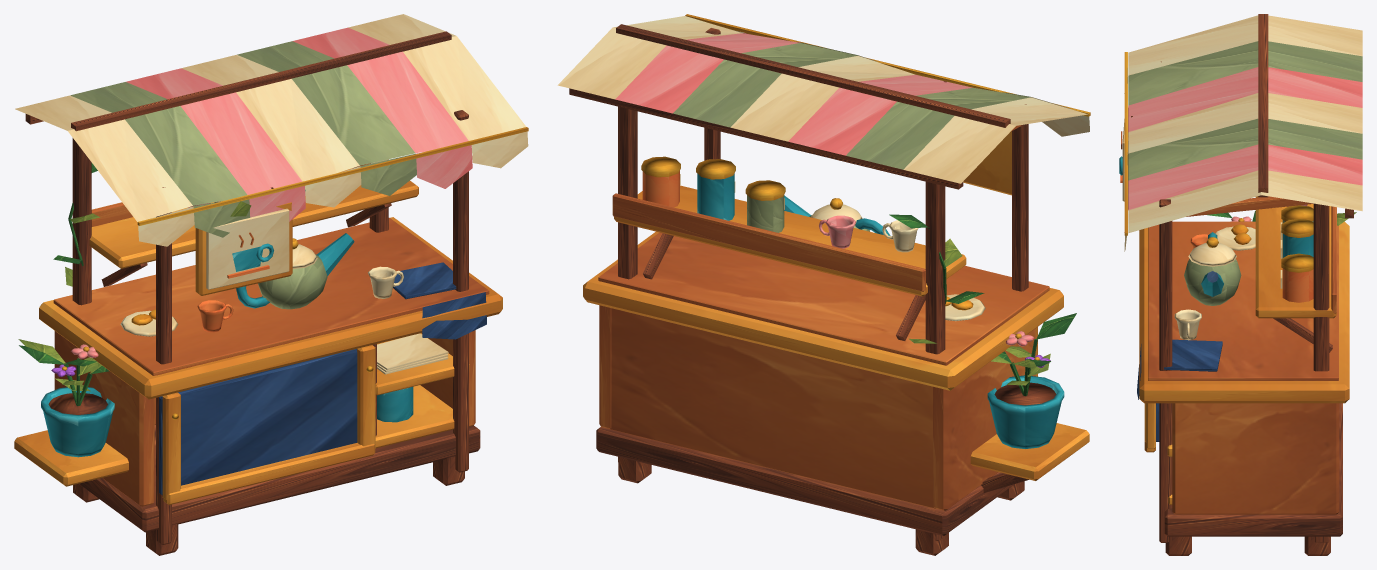
Rendered from bloomwalker_painterly_tea_kiosk_editable_parts.glb.
3 views of the same model, side by side, from view 1: azimuth 30°, elevation 25°; view 2: azimuth 150°, elevation 25°; view 3: azimuth 270°, elevation 25° (orthographic). The views are drawn at different scales.
Parts seen in each view (by area): view 1: 016 Warm oil-painted serving surface, 009 Indigo hand-painted front panel, 015 Generous serving counter golden edge, 000 Tea kiosk underframe, 031 Broad stripe canopy cloth 4, 025 Broad stripe canopy cloth 1, 037 Broad stripe canopy cloth 7, 029 Broad stripe canopy cloth 3, 033 Broad stripe canopy cloth 5, 035 Broad stripe canopy cloth 6, 027 Broad stripe canopy cloth 2, 007 Tea kiosk left lower side wall (+34 smaller); view 2: 006 Tea kiosk back storage wall, 016 Warm oil-painted serving surface, 015 Generous serving counter golden edge, 000 Tea kiosk underframe, 043 Shelf back lip, 007 Tea kiosk left lower side wall, 025 Broad stripe canopy cloth 1, 031 Broad stripe canopy cloth 4, 040 Back tea display shelf, 033 Broad stripe canopy cloth 5, 037 Broad stripe canopy cloth 7, 027 Broad stripe canopy cloth 2 (+24 smaller); view 3: 008 Tea kiosk right lower side wall, 016 Warm oil-painted serving surface, 015 Generous serving counter golden edge, 027 Broad stripe canopy cloth 2, 035 Broad stripe canopy cloth 6, 033 Broad stripe canopy cloth 5, 029 Broad stripe canopy cloth 3, 025 Broad stripe canopy cloth 1, 037 Broad stripe canopy cloth 7, 031 Broad stripe canopy cloth 4, 000 Tea kiosk underframe, 040 Back tea display shelf (+21 smaller).
Part boxes in pixels (left/top/right/bottom): 016 Warm oil-painted serving surface: left=53, top=217, right=489, bottom=375; 009 Indigo hand-painted front panel: left=159, top=349, right=357, bottom=495; 015 Generous serving counter golden edge: left=39, top=217, right=502, bottom=399; 000 Tea kiosk underframe: left=79, top=425, right=480, bottom=532; 031 Broad stripe canopy cloth 4: left=181, top=54, right=359, bottom=181; 025 Broad stripe canopy cloth 1: left=15, top=95, right=192, bottom=221; 037 Broad stripe canopy cloth 7: left=348, top=14, right=526, bottom=140; 029 Broad stripe canopy cloth 3: left=126, top=68, right=302, bottom=194; 033 Broad stripe canopy cloth 5: left=237, top=41, right=414, bottom=165; 035 Broad stripe canopy cloth 6: left=292, top=27, right=468, bottom=153; 027 Broad stripe canopy cloth 2: left=70, top=82, right=247, bottom=205; 007 Tea kiosk left lower side wall: left=54, top=331, right=154, bottom=506; 006 Tea kiosk back storage wall: left=610, top=308, right=935, bottom=508; 016 Warm oil-painted serving surface: left=598, top=232, right=1049, bottom=365; 015 Generous serving counter golden edge: left=583, top=231, right=1063, bottom=390; 000 Tea kiosk underframe: left=596, top=427, right=1014, bottom=535; 043 Shelf back lip: left=612, top=193, right=925, bottom=291; 007 Tea kiosk left lower side wall: left=933, top=328, right=1035, bottom=510; 025 Broad stripe canopy cloth 1: left=903, top=97, right=1087, bottom=183; 031 Broad stripe canopy cloth 4: left=730, top=56, right=914, bottom=141; 040 Back tea display shelf: left=614, top=185, right=966, bottom=296; 033 Broad stripe canopy cloth 5: left=673, top=43, right=857, bottom=127; 037 Broad stripe canopy cloth 7: left=557, top=16, right=742, bottom=99; 027 Broad stripe canopy cloth 2: left=846, top=87, right=1029, bottom=169; 008 Tea kiosk right lower side wall: left=1172, top=403, right=1339, bottom=514; 016 Warm oil-painted serving surface: left=1148, top=221, right=1338, bottom=380; 015 Generous serving counter golden edge: left=1139, top=221, right=1349, bottom=403; 027 Broad stripe canopy cloth 2: left=1128, top=41, right=1362, bottom=105; 035 Broad stripe canopy cloth 6: left=1128, top=144, right=1362, bottom=210; 033 Broad stripe canopy cloth 5: left=1128, top=118, right=1362, bottom=180; 029 Broad stripe canopy cloth 3: left=1128, top=67, right=1362, bottom=132; 025 Broad stripe canopy cloth 1: left=1128, top=15, right=1362, bottom=75; 037 Broad stripe canopy cloth 7: left=1128, top=170, right=1362, bottom=233; 031 Broad stripe canopy cloth 4: left=1128, top=93, right=1362, bottom=153; 000 Tea kiosk underframe: left=1164, top=403, right=1342, bottom=536; 040 Back tea display shelf: left=1255, top=196, right=1336, bottom=318.
Bounding box in the file's own units: 2.5 × 2.26 × 1.3.
Materials: 2 (2 with a texture image).
